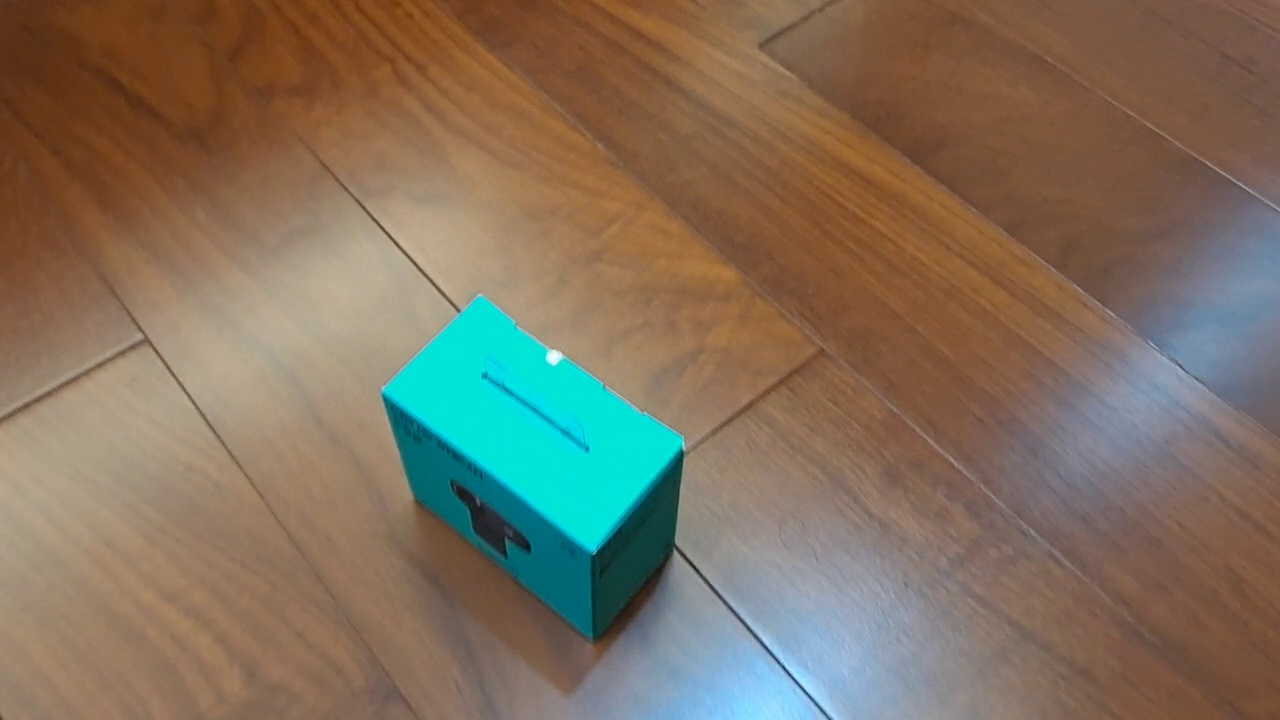webcam: (379, 294, 687, 646)
